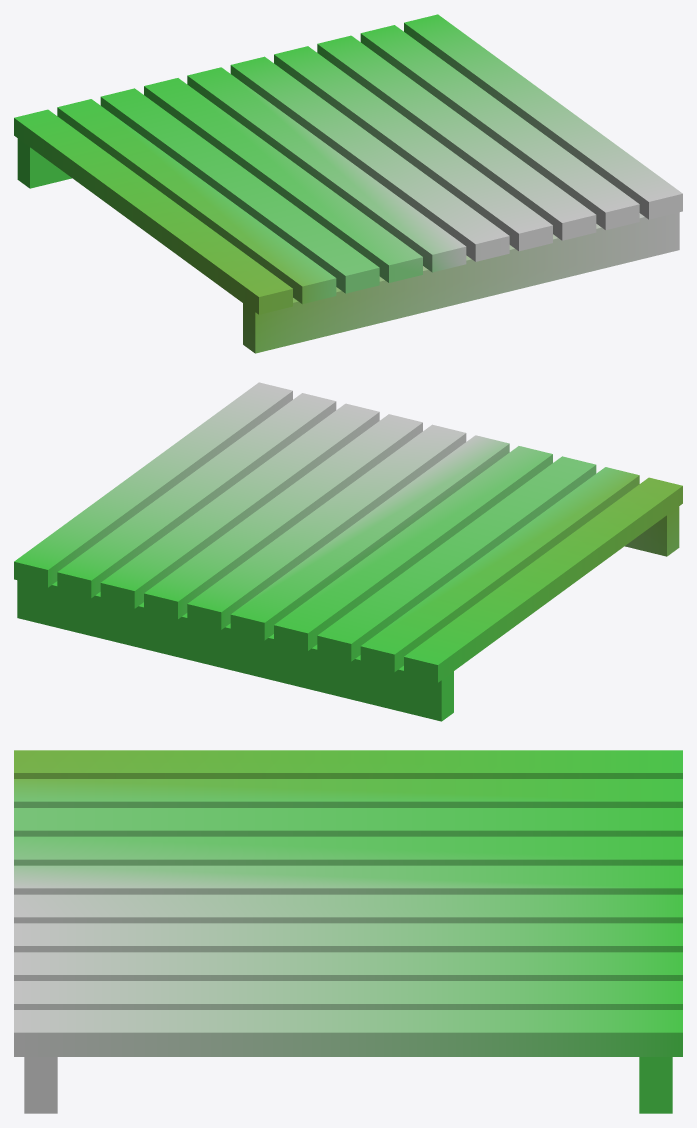
The model's file is Planks.fbx.
3 renders of one model, top to bottom at view 1: azimuth 30°, elevation 25°; view 2: azimuth 150°, elevation 25°; view 3: azimuth 270°, elevation 25°, orthographic. The views are drawn at different scales.
Parts seen in each view (by area): view 1: Planks; view 2: Planks; view 3: Planks.
Part boxes in pixels (left/top/right/bottom): Planks: left=14, top=14, right=682, bottom=353; Planks: left=14, top=382, right=682, bottom=721; Planks: left=14, top=750, right=682, bottom=1113.
Size of the model in its own units: 1.5 by 0.2001 by 1.5.
